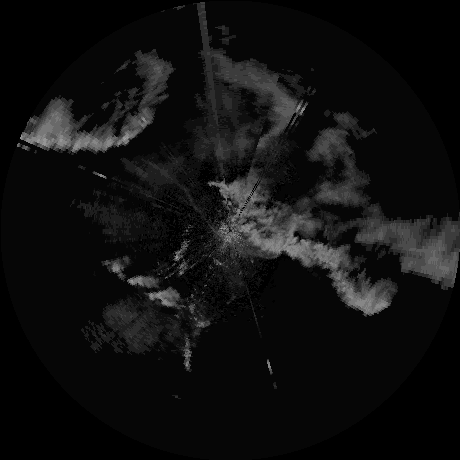frontgust: (143, 159, 217, 233)
